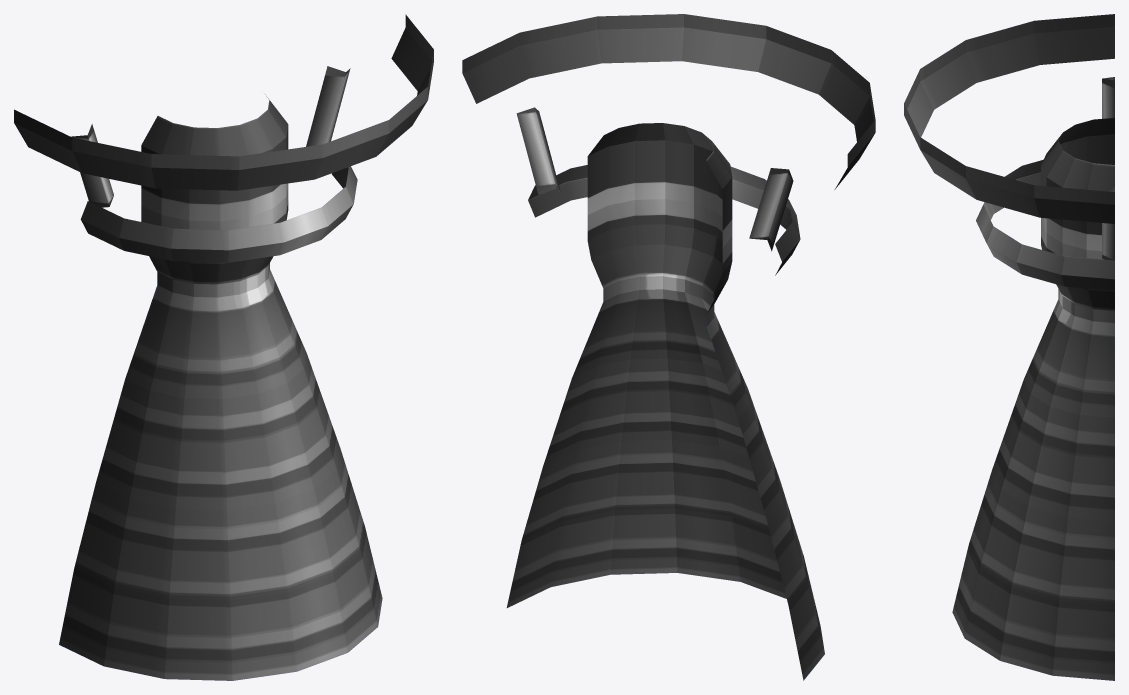
3 renders of one model, left to right at view 1: azimuth 30°, elevation 25°; view 2: azimuth 150°, elevation 25°; view 3: azimuth 270°, elevation 25°, orthographic. The views are drawn at different scales.
Visible parts, largest first — view 1: Cylinder; view 2: Cylinder; view 3: Cylinder.
Boxes of the visible parts, <box> form: Cylinder: <box>14,14,433,680</box>; Cylinder: <box>462,14,875,680</box>; Cylinder: <box>904,14,1114,680</box>.
Size of the model in its own units: 1.5 by 2 by 0.7495.
Materials: 1 (1 with a texture image).
